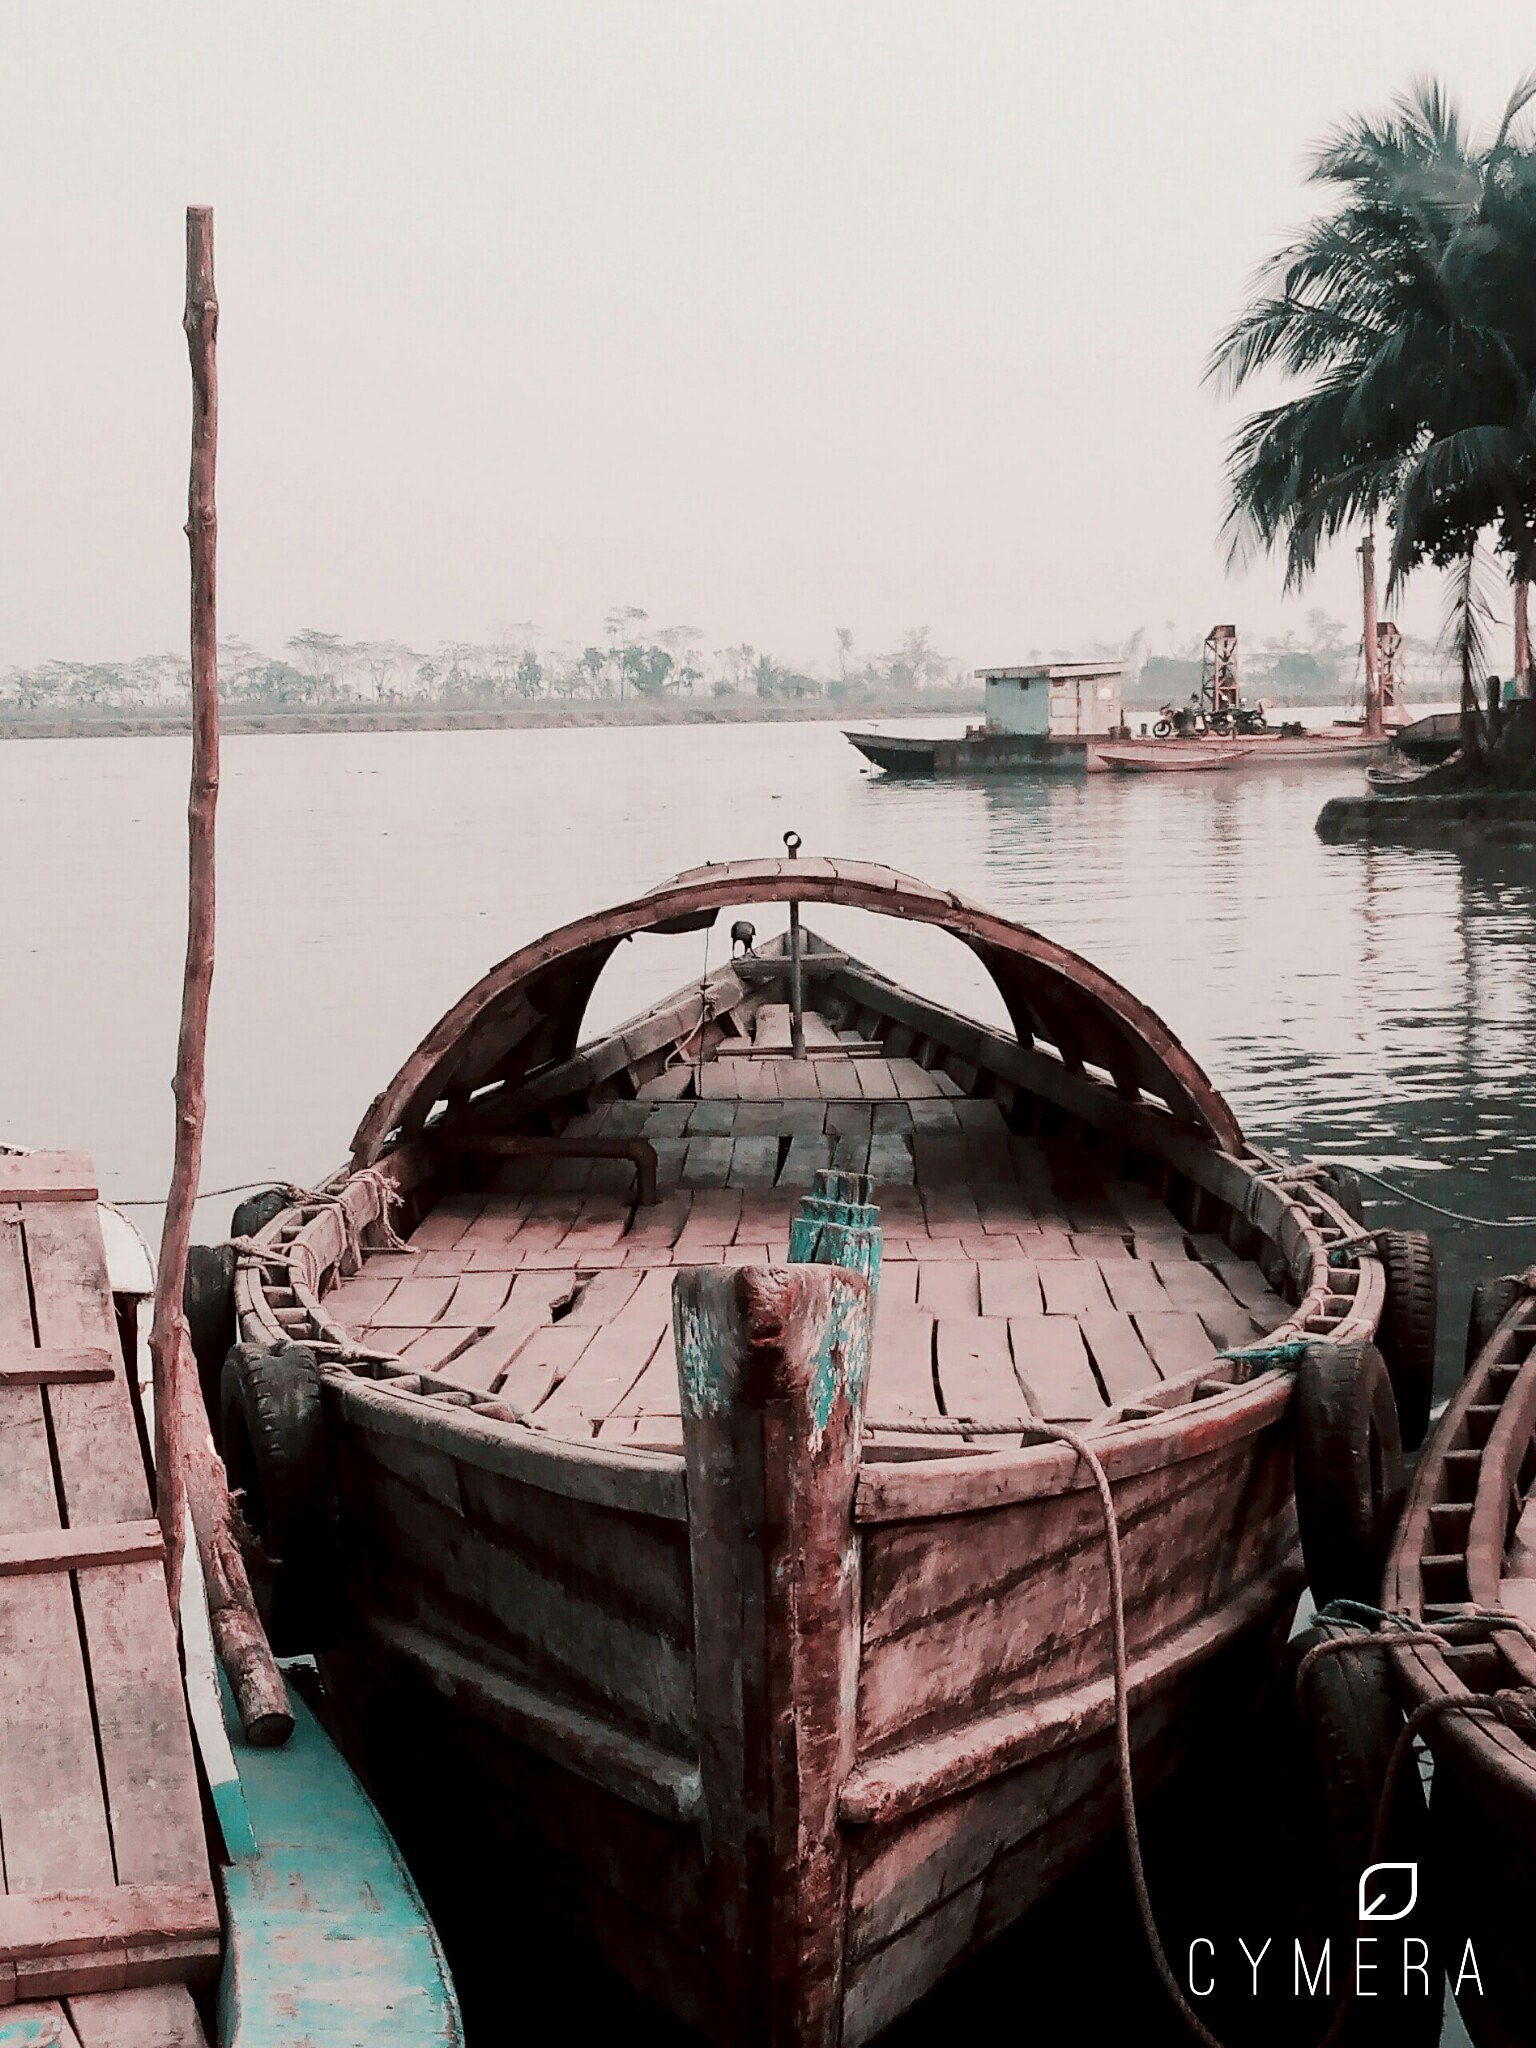boat: (257, 847, 1386, 1979)
